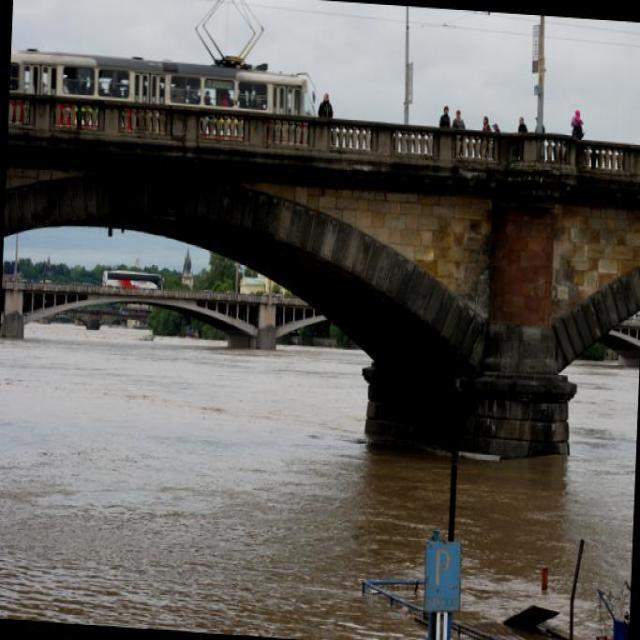flood: (0, 300, 639, 639)
